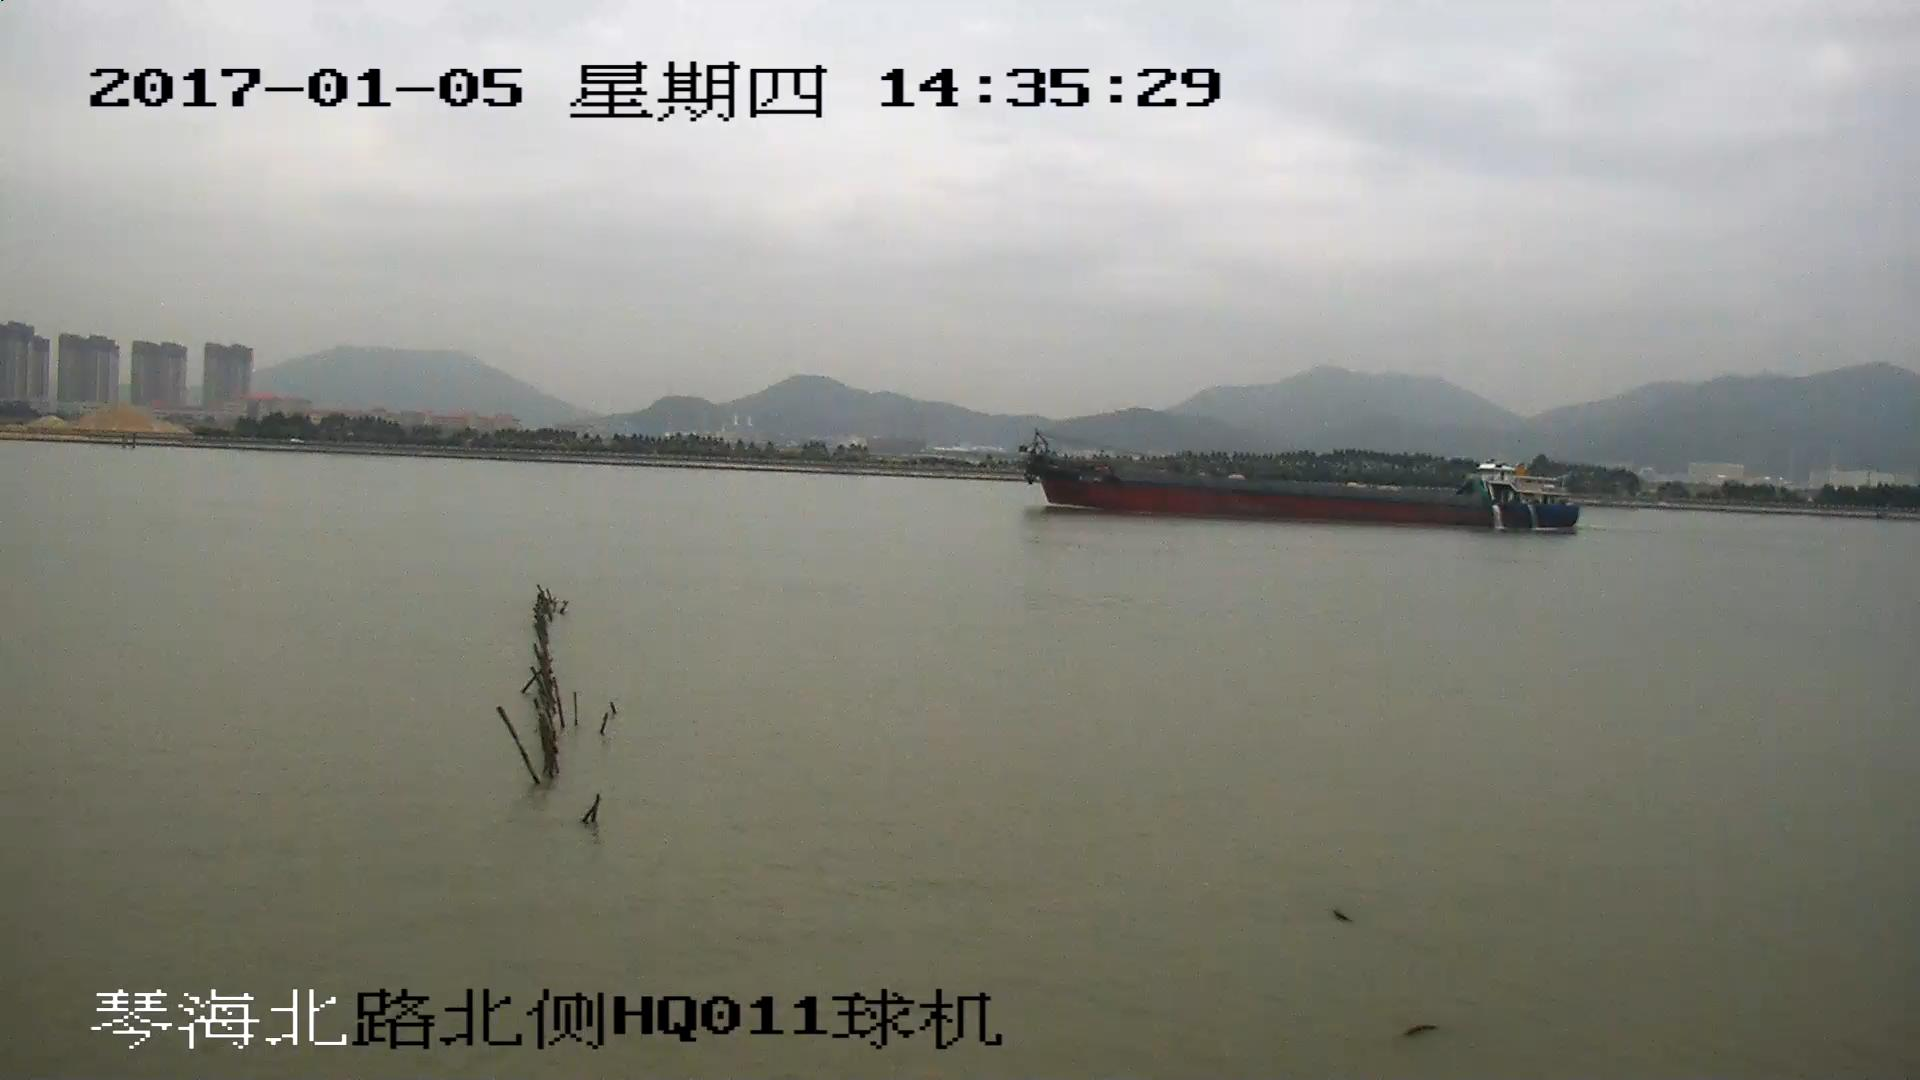bulk cargo carrier: (1015, 432, 1576, 530)
